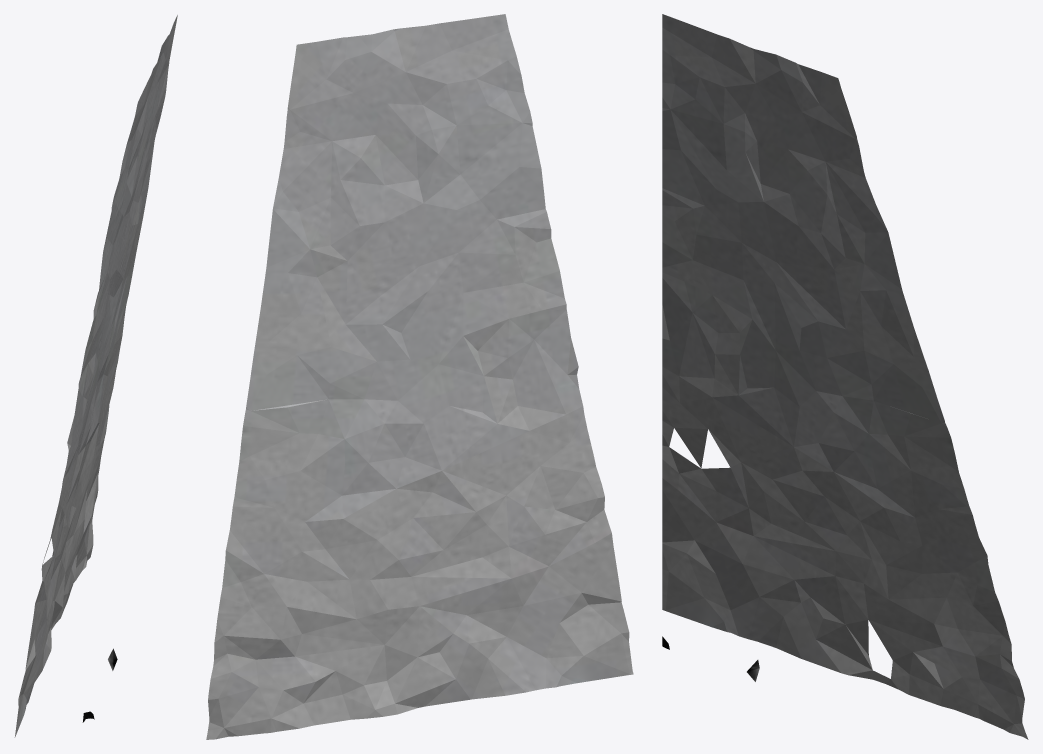
3 renders of one model, left to right at view 1: azimuth 30°, elevation 25°; view 2: azimuth 150°, elevation 25°; view 3: azimuth 270°, elevation 25°, orthographic. The views are drawn at different scales.
Size of the model in its own units: 0.3529 by 0.8373 by 0.42.
Materials: 2 (2 with a texture image).
